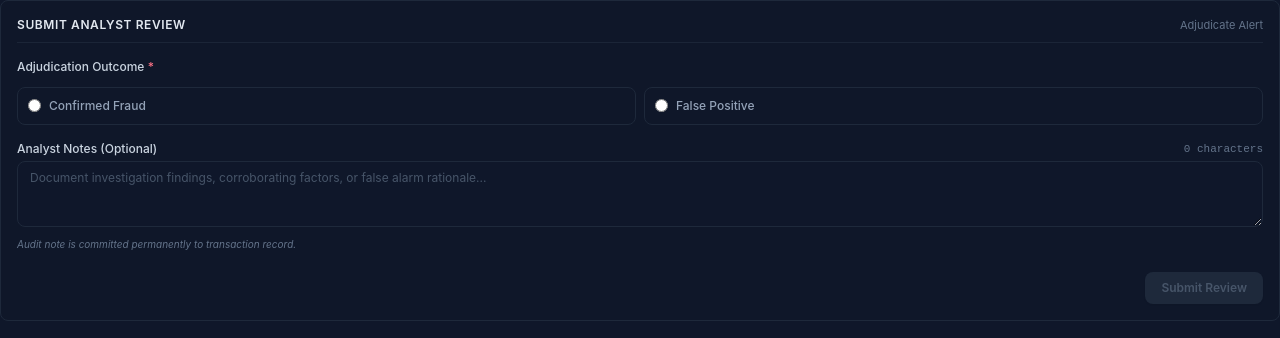
it: Review workflow components › AnalystReviewForm › validates that an outcome must be selected before submission
Expected: the button with test id "submit-review-btn" is disabled, [1145,272,1263,304]
Typing only a note does not enable submit
Replace the text in the text box with placeholder "Document investigation findings" with "Suspicious amount": (640, 194) [17,161,1263,227]
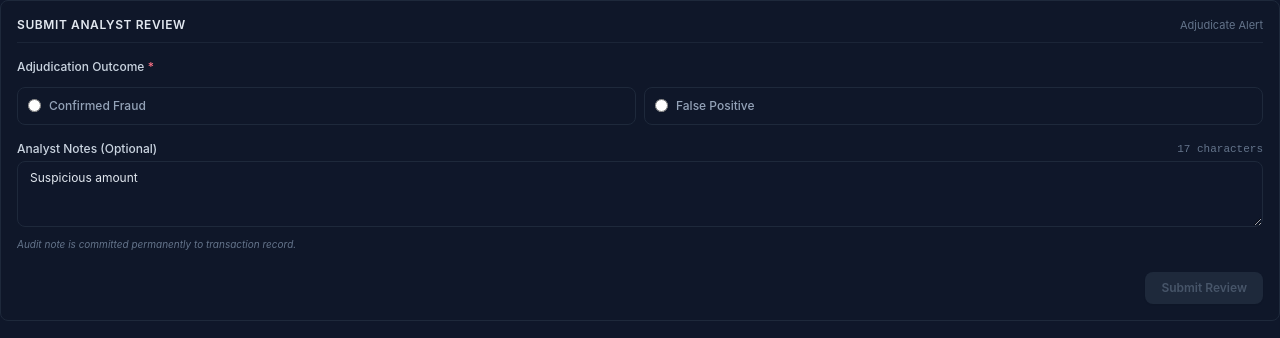
Expected: the button with test id "submit-review-btn" is disabled, [1145,272,1263,304]
Selecting an outcome enables submit
Click the radio button labelled "Confirmed Fraud": (34, 106) [28,99,41,112]
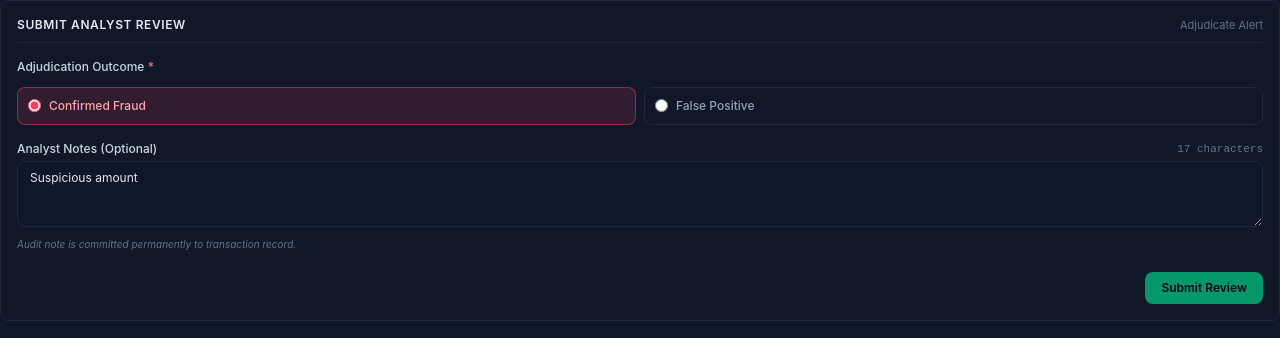
Now the button with test id "submit-review-btn" is enabled, box [1145,272,1263,304]
